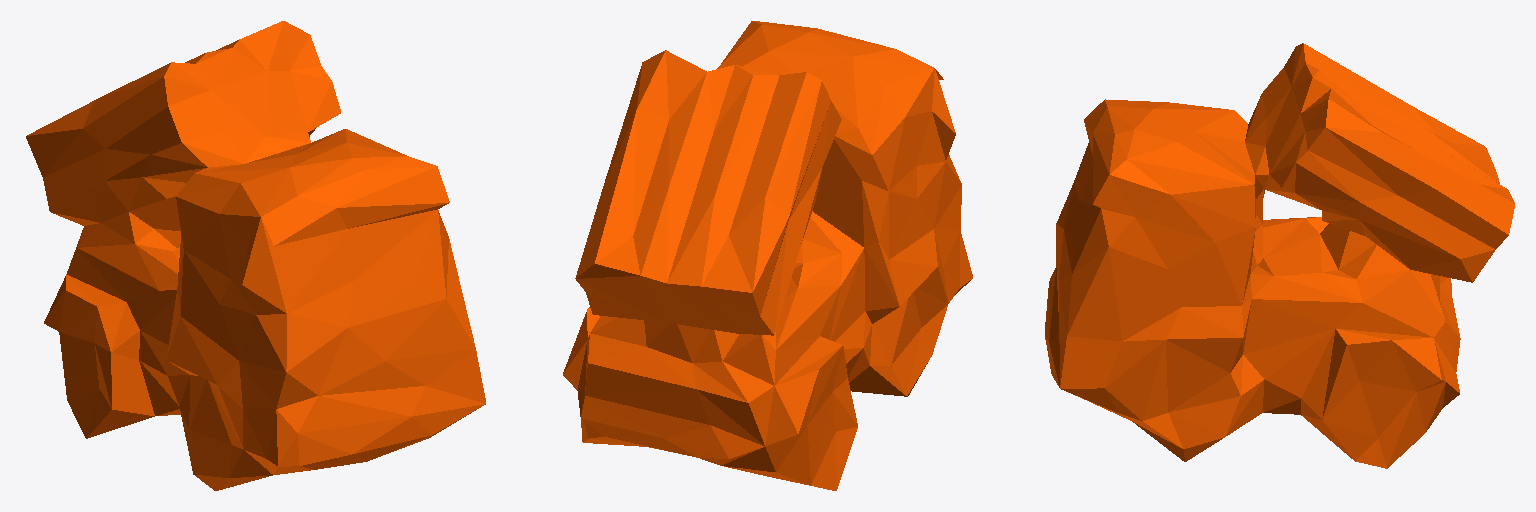
URDF robot description (car_down):
<?xml version="1.0" ?>
<robot name="car_down">
   <material name="obj_color">
      <color rgba="1.0 0.423529411765 0.0392156862745 1.0"/>
   </material>
   <link name="top">
      <inertial>
         <origin rpy="0.0001597418050472539 0.000240457553376991 0.0002998964330722083" xyz="9.497771835334538e-05 -0.00661516512029668 -0.005093626241740207"/>
         <mass value="0.24875"/>
         <inertia ixx="0.0002990753016616454" ixy="1.04872158328959e-05" ixz="1.686847382137204e-06" iyy="0.0001607991123517813" iyz="-4.516344109810442e-06" izz="0.0002402213774830265"/>
      </inertial>
      <visual>
         <origin rpy="0 0 0" xyz="0 0 0"/>
         <geometry>
            <mesh filename="top_watertight_tiny.stl" scale="1 1 1"/>
         </geometry>
         <material name="obj_color"/>
      </visual>
      <collision>
         <origin rpy="0 0 0" xyz="0 0 0"/>
         <geometry>
            <mesh filename="top_watertight_tiny.obj" scale="1 1 1"/>
         </geometry>
      </collision>
   </link>
   <link name="bottom">
      <inertial>
         <origin rpy="1.633333333194242e-08 1.633333333194243e-08 1.633333333357667e-08" xyz="0.3464080000000008 0.3464080000000008 0.3464080000000008"/>
         <mass value="0.0009800000000000017"/>
         <inertia ixx="1.633333333248717e-08" ixy="5.447480642029219e-19" ixz="5.447480642029219e-19" iyy="1.633333333248717e-08" iyz="5.447480642029219e-19" izz="1.633333333248717e-08"/>
      </inertial>
      <visual>
         <origin rpy="0 0 0" xyz="0 0 0"/>
         <geometry>
            <mesh filename="bottom_watertight_tiny.stl" scale="1 1 1"/>
         </geometry>
         <material name="obj_color"/>
      </visual>
   </link>
   <link name="world"/>
   <joint name="world_to_base" type="fixed">
      <origin xyz="0 0 0"/>
      <axis xyz="0 0 0"/>
      <parent link="world"/>
      <child link="bottom"/>
   </joint>
   <joint name="rotation" type="revolute">
      <origin xyz="0 0 0"/>
      <axis xyz="0 0 -1"/>
      <parent link="bottom"/>
      <child link="top"/>
      <dynamics damping="1.0" friction="1.0"/>
      <limit effort="0.1" velocity="0.1" lower="0" upper="0.001"/>
   </joint>
</robot>

--- What the picture shows (computed from the rendered views, not written in the file) ---
The picture shows the robot from 3 angles, left to right: view 1: azimuth 30°, elevation 25°; view 2: azimuth 150°, elevation 25°; view 3: azimuth 270°, elevation 25°; orthographic projection.
Robot: car_down — 3 links, 2 joints (1 revolute, 1 fixed); root link world; default pose: every joint at zero.
Visible links, largest first — view 1: top; view 2: top; view 3: top.
Link boxes in pixels (x1,y1,x2,y2): top: [26, 21, 485, 490]; top: [563, 21, 972, 490]; top: [1045, 43, 1514, 468].
Bounding box of the posed robot: 0.0633 × 0.1143 × 0.094 m (x, y, z).
Meshes: 2 distinct files referenced, 1 mesh visuals loaded (1 binary STL); not drawn: 1 (reference not matched to a file when rendering).